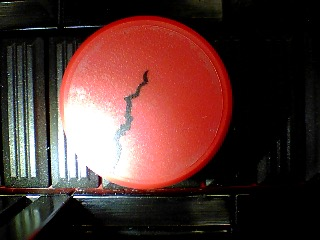CRACK: (58, 14, 233, 191)
